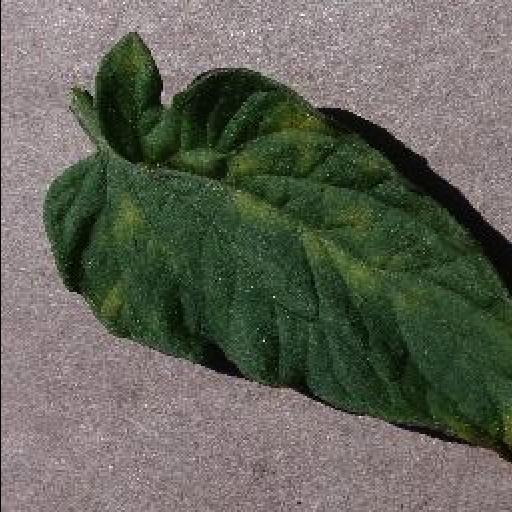disease_tomato: (42, 34, 512, 460)
